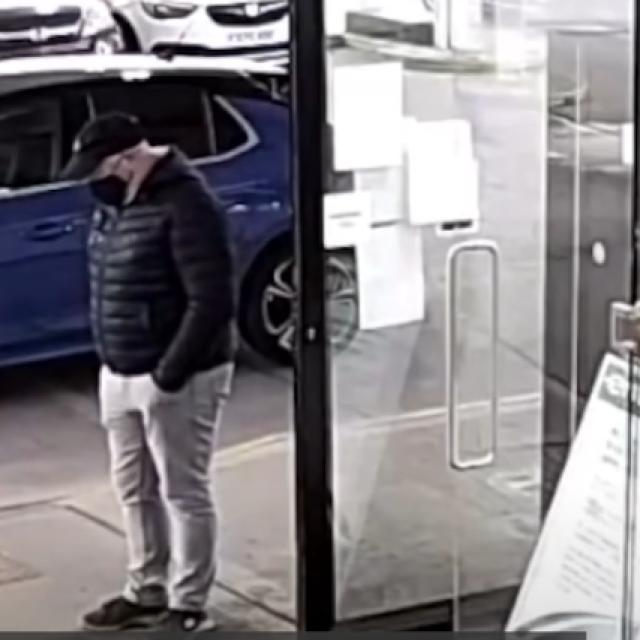Jacket_Wearer: (80, 170, 242, 379)
Person: (52, 113, 238, 640)
